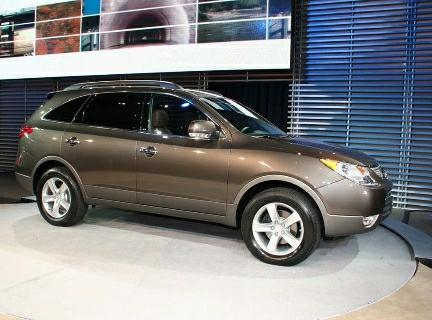car: (8, 71, 400, 271)
